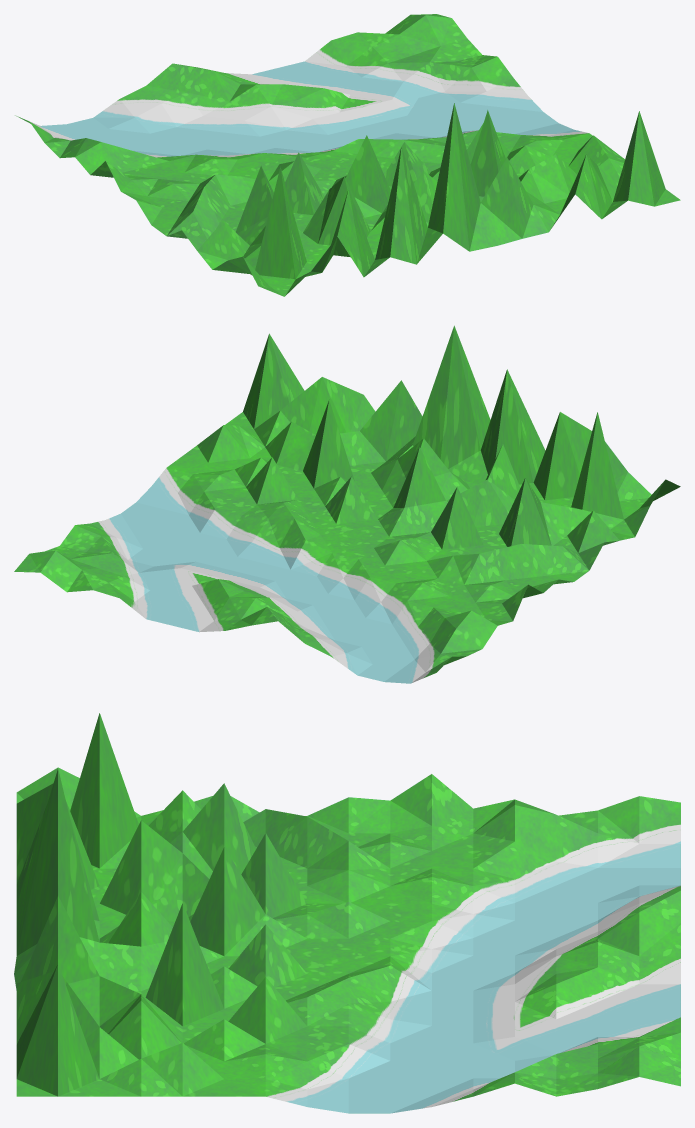
Rendered from Ground4.obj.
3 views of the same model, one above another, from view 1: azimuth 30°, elevation 25°; view 2: azimuth 150°, elevation 25°; view 3: azimuth 270°, elevation 25° (orthographic). The views are drawn at different scales.
Parts seen in each view (by area): view 1: 平面; view 2: 平面; view 3: 平面.
Part boxes in pixels (box(x1,y1,x2,y2)): 平面: box(15, 14, 680, 296); 平面: box(14, 325, 680, 683); 平面: box(14, 713, 680, 1113).
Size of the model in its own units: 20 by 6.81 by 20.08.
1 material, 1 textured.
